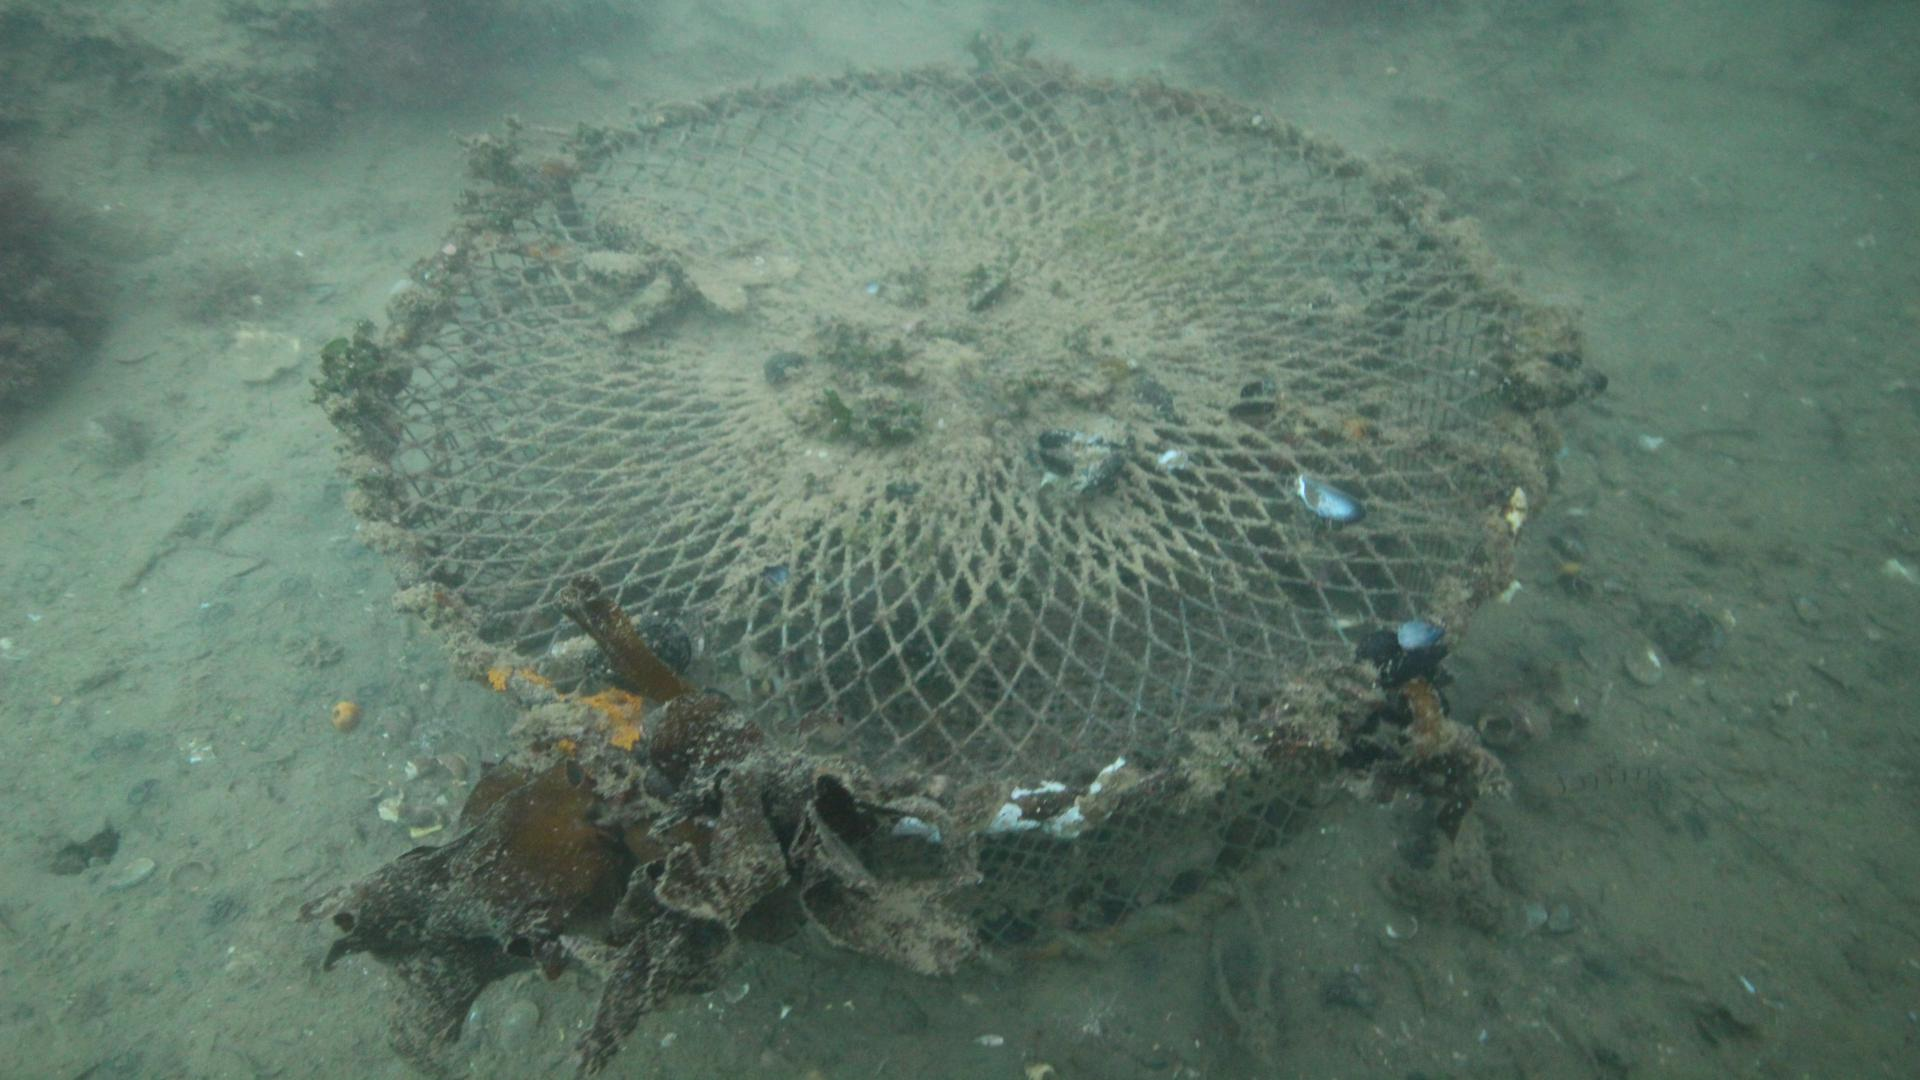circular fish trap: (343, 58, 1567, 976)
